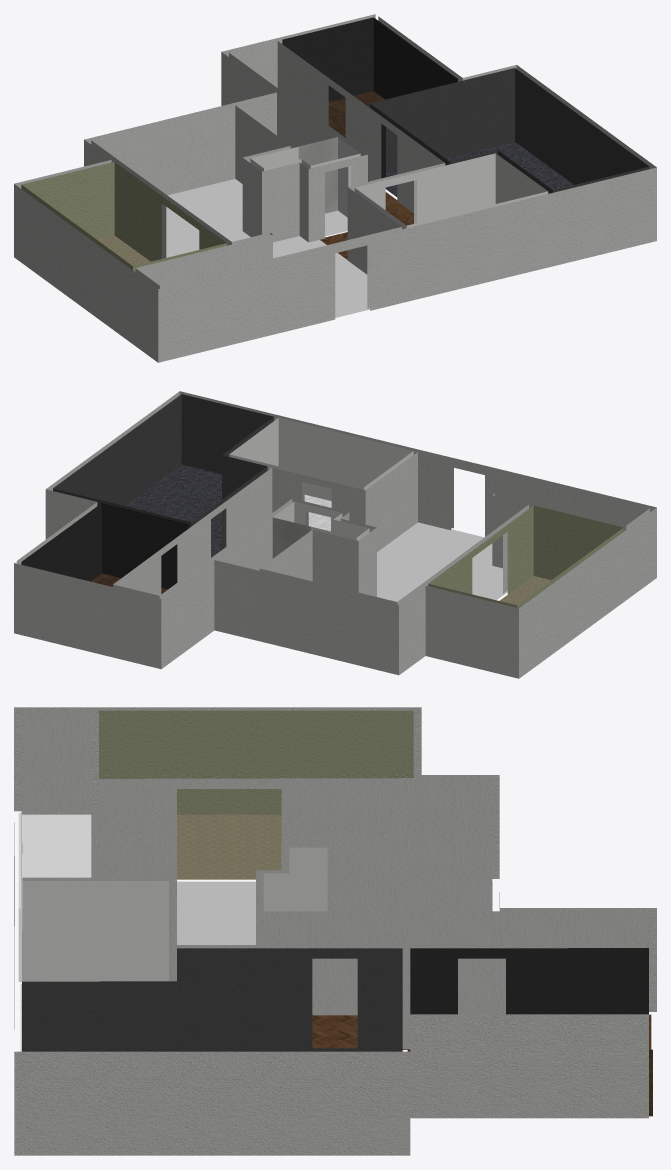
The model's file is House.v03.fbx.
The picture shows the model from 3 angles, top to bottom: view 1: azimuth 30°, elevation 25°; view 2: azimuth 150°, elevation 25°; view 3: azimuth 270°, elevation 25°; orthographic projection. The views are drawn at different scales.
Parts seen in each view (by area): view 1: Outside, Living Room Walls, Garage Walls, Kitchen walls, Office Walls, Bathroom walls, Living Room Floor, Closet walls, Garage Floor, Office Floor, Hall Floor, Kitchen Floor; view 2: Outside, Living Room Walls, Garage Walls, Office Walls, Kitchen walls, Bathroom walls, Living Room Floor, Garage Floor, Closet walls, Kitchen Floor, Bathroom Floor; view 3: Outside, Living Room Walls, Garage Walls, Kitchen walls, Bathroom walls, Office Walls, Kitchen Floor, Living Room Floor, Stairs Floor, Closet walls, Hall Floor.
Part boxes in pixels (box(x1,y1,x2,y2)): Outside: box(14, 14, 656, 362); Living Room Walls: box(91, 41, 445, 308); Garage Walls: box(370, 68, 649, 193); Kitchen walls: box(21, 162, 226, 272); Office Walls: box(282, 17, 457, 101); Bathroom walls: box(354, 153, 548, 229); Living Room Floor: box(166, 179, 369, 317); Closet walls: box(250, 137, 360, 217); Garage Floor: box(386, 141, 573, 196); Office Floor: box(328, 91, 384, 137); Hall Floor: box(320, 180, 413, 259); Kitchen Floor: box(97, 235, 150, 265); Outside: box(14, 391, 656, 678); Living Room Walls: box(113, 452, 649, 604); Garage Walls: box(53, 394, 273, 549); Office Walls: box(21, 503, 188, 589); Kitchen walls: box(428, 505, 623, 608); Bathroom walls: box(229, 418, 413, 501); Living Room Floor: box(377, 522, 507, 601); Garage Floor: box(125, 464, 221, 557); Closet walls: box(272, 501, 369, 558); Kitchen Floor: box(499, 576, 551, 605); Bathroom Floor: box(304, 494, 331, 531); Outside: box(14, 707, 656, 1155); Living Room Walls: box(21, 710, 648, 1049); Garage Walls: box(22, 948, 402, 1051); Kitchen walls: box(99, 710, 413, 814); Bathroom walls: box(22, 881, 168, 981); Office Walls: box(410, 948, 648, 1014); Kitchen Floor: box(177, 814, 281, 879); Living Room Floor: box(18, 881, 492, 981); Stairs Floor: box(18, 812, 91, 908); Closet walls: box(263, 847, 327, 911); Hall Floor: box(312, 1014, 651, 1049).
Bounding box in the file's own units: 2664 × 376 × 2104.
